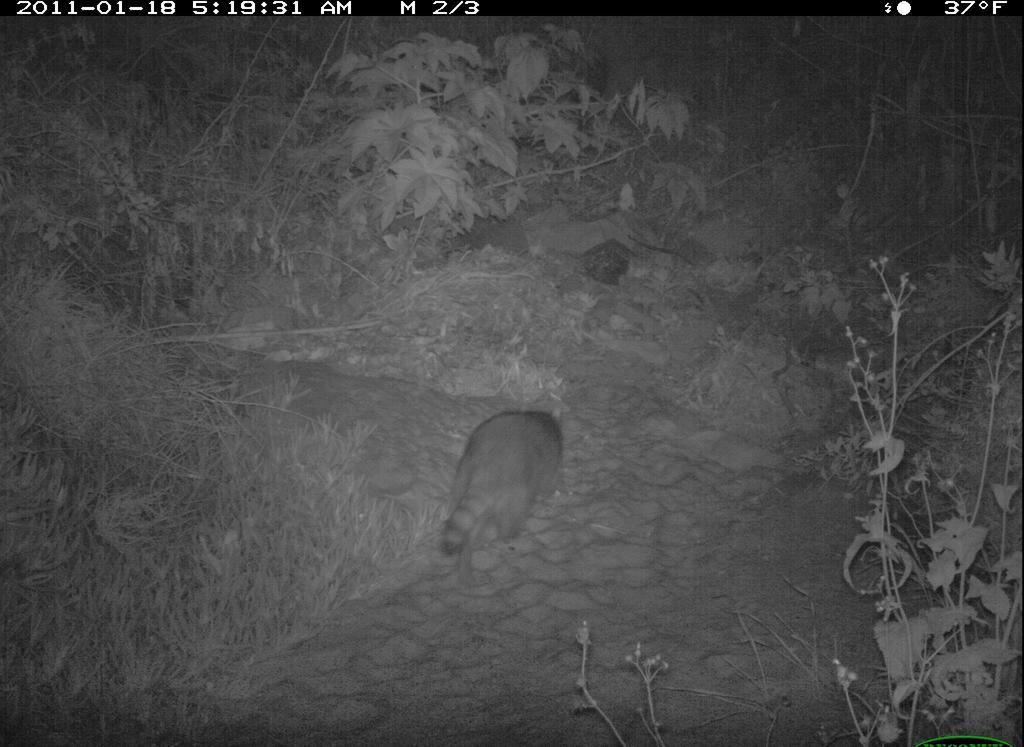raccoon: (437, 387, 575, 565)
